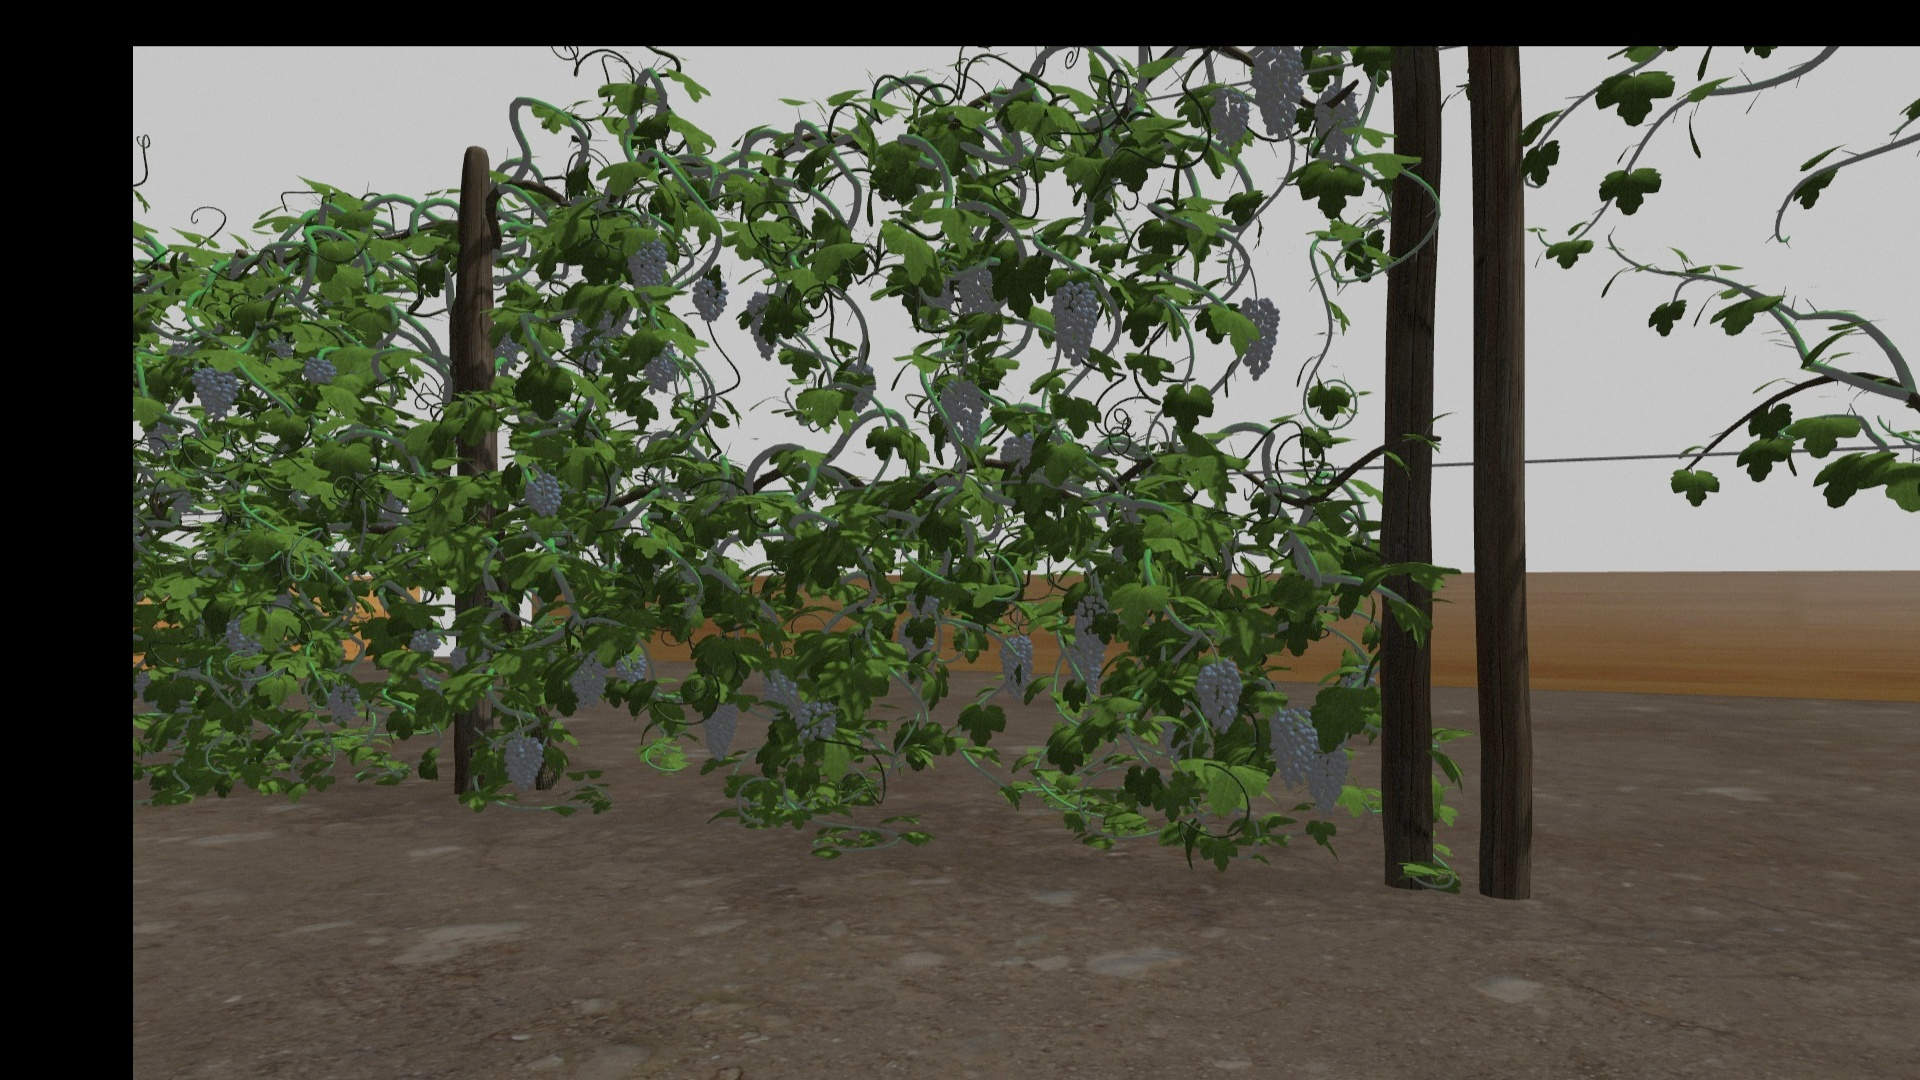grape: (1250, 49, 1303, 138), (1051, 280, 1098, 367), (1193, 657, 1244, 737), (1269, 709, 1316, 789), (1236, 295, 1279, 378), (1304, 744, 1350, 818), (1312, 86, 1357, 160), (939, 378, 982, 452), (1205, 87, 1249, 150), (502, 732, 545, 793), (624, 235, 669, 291), (1073, 593, 1109, 665), (702, 694, 738, 762), (744, 291, 778, 363), (193, 364, 237, 417), (567, 654, 607, 707), (1000, 636, 1033, 698), (524, 469, 562, 520), (956, 266, 992, 319), (642, 339, 675, 396), (688, 277, 728, 322), (1065, 647, 1102, 692), (794, 699, 833, 740), (324, 682, 360, 725), (758, 667, 796, 705), (302, 355, 334, 386), (613, 654, 647, 683), (407, 626, 439, 651)
